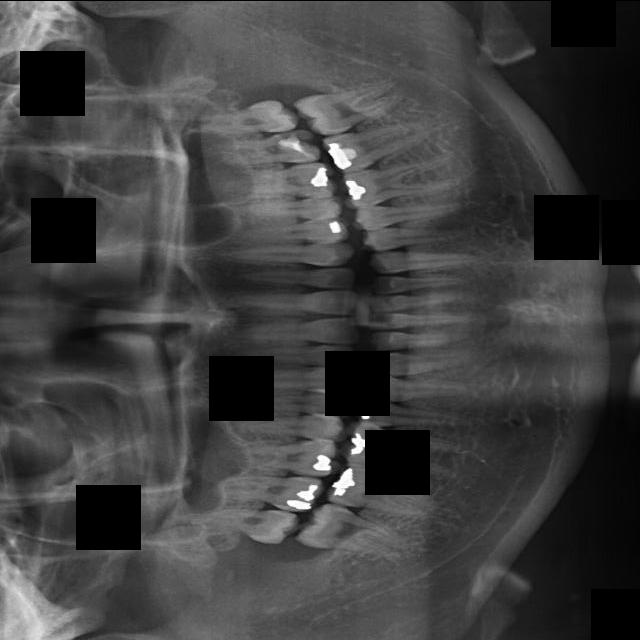3M ESPE Implant: (188, 503, 301, 545)
AGS Medikal Implant: (430, 126, 432, 127)
AMerOss Implant: (336, 148, 464, 213)
Amalgam filling: (215, 470, 325, 514)
Anthogyr Implant: (348, 187, 473, 231)
Bicon Implant: (359, 214, 478, 252)
BioHorizons Implant: (367, 241, 482, 275)
BioLife Implant: (368, 275, 471, 295)
Biomet 3i Implant: (367, 288, 476, 313)
Blue Sky Bio Implant: (365, 310, 476, 330)
Camlog Implant: (368, 328, 476, 352)
Caries: (230, 266, 357, 292)
Composite filling: (367, 351, 478, 376)
Cowellmedi Implant: (356, 372, 473, 410)
Crown: (350, 395, 478, 443)
DENTSPLY Implant: (230, 434, 341, 478)
Dentatus Implant: (334, 418, 465, 483)
Dentis Implant: (321, 458, 449, 527)
Dentium Implant: (294, 498, 422, 563)
Euroteknika Implant: (228, 404, 347, 443)
Filling: (226, 386, 353, 418)
Frontier Implant: (208, 363, 358, 391)
Hiossen Implant: (216, 241, 354, 269)
Implant: (224, 315, 361, 344)
Implant Direct: (229, 339, 358, 368)
Keystone Dental Implant: (224, 289, 361, 318)
MIS Implant: (228, 215, 351, 245)
Mandible: (228, 194, 343, 222)
Maxilla: (221, 160, 336, 200)
Megagen Implant: (206, 127, 322, 169)
Neodent Implant: (193, 95, 300, 142)
Neoss Implant: (292, 76, 407, 142)
